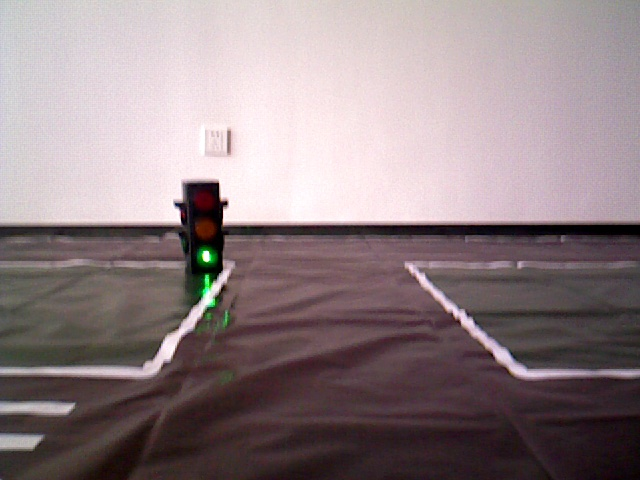green: (182, 183, 224, 266)
